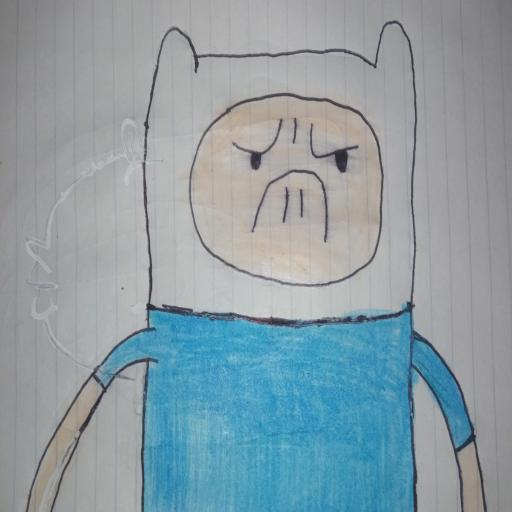person: (27, 21, 486, 511)
